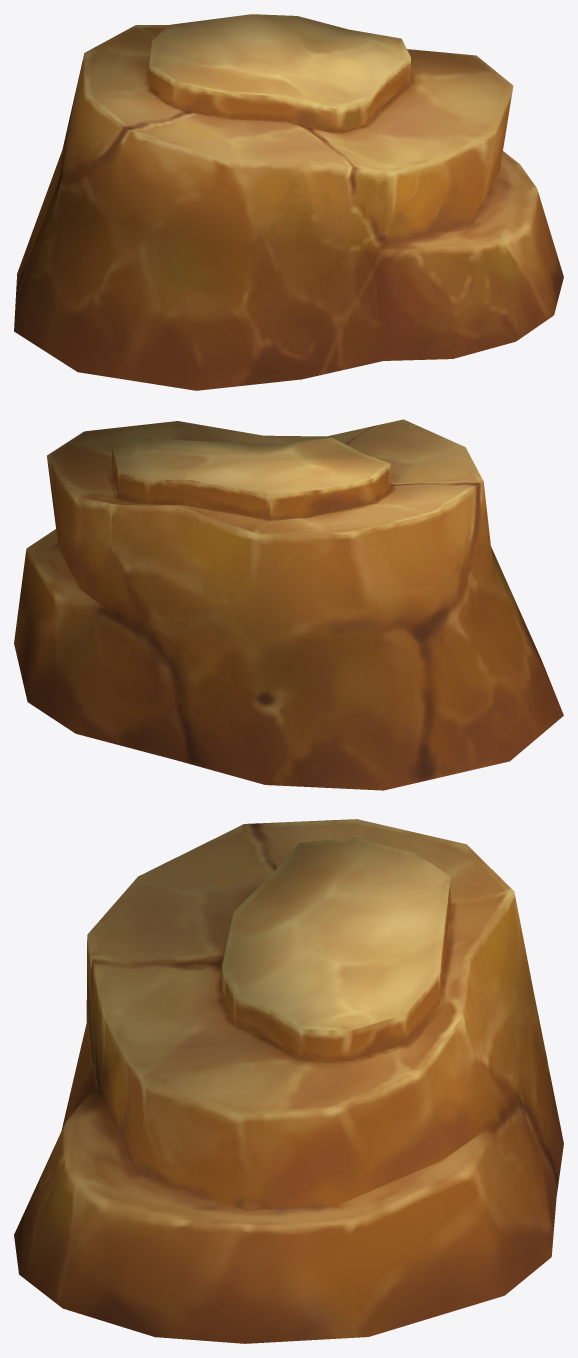
Rendered from Stage_ShaMo_ShiTou03.FBX.
3 renders of one model, top to bottom at view 1: azimuth 30°, elevation 25°; view 2: azimuth 150°, elevation 25°; view 3: azimuth 270°, elevation 25°, orthographic. The views are drawn at different scales.
Parts seen in each view (by area): view 1: Stage_ShaMo_ShiTou03; view 2: Stage_ShaMo_ShiTou03; view 3: Stage_ShaMo_ShiTou03.
Part boxes in pixels (bbox=[...]): Stage_ShaMo_ShiTou03: bbox=[14, 14, 563, 390]; Stage_ShaMo_ShiTou03: bbox=[14, 419, 563, 790]; Stage_ShaMo_ShiTou03: bbox=[14, 819, 563, 1343].
Size of the model in its own units: 682 by 320 by 540.
